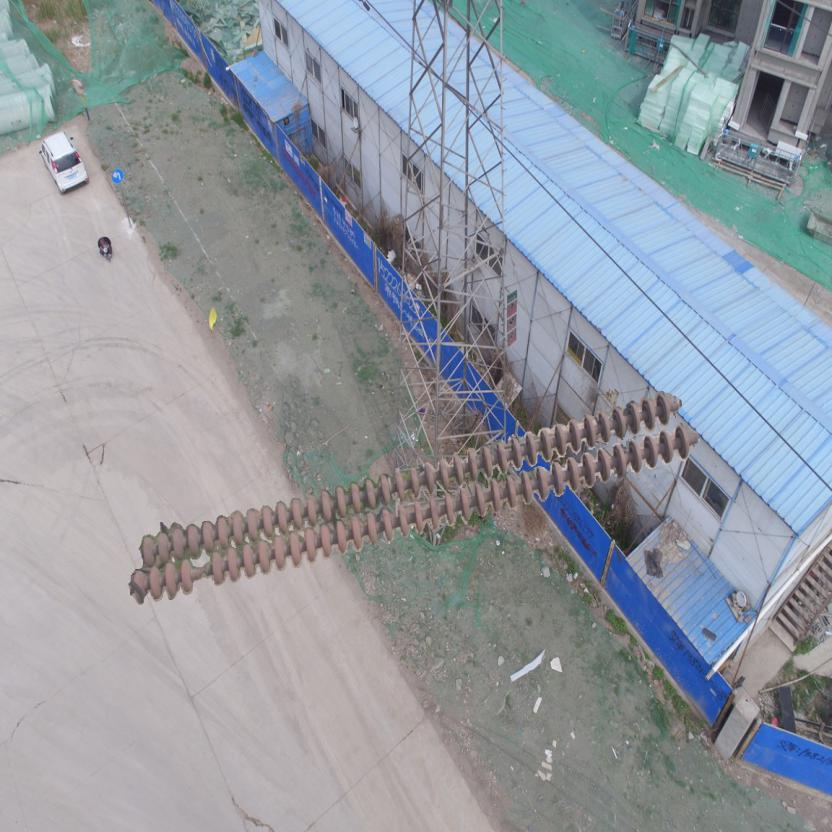defect: (176, 543, 224, 595)
